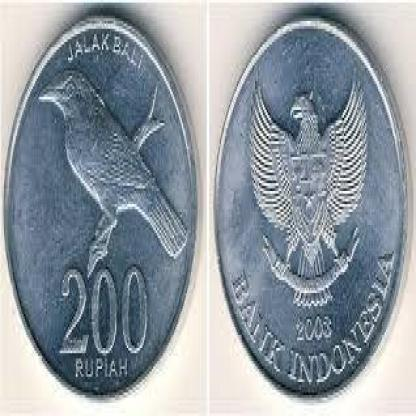coin_200_e2003: (0, 0, 202, 405), (215, 8, 408, 405)
